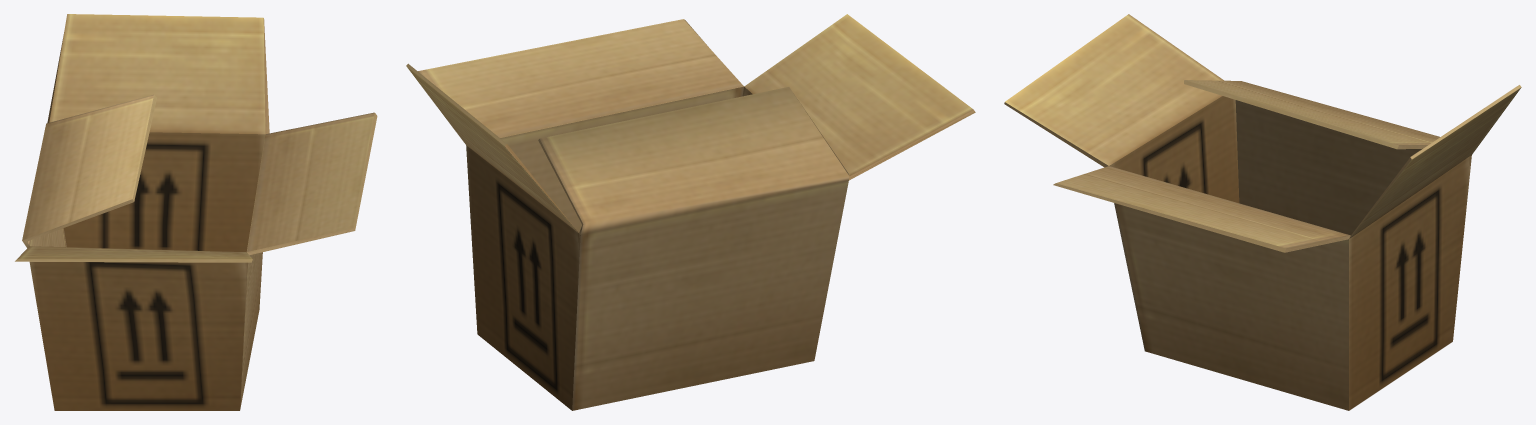
The model's file is TuShuGuan_01_zhixiang_01.FBX.
3 renders of one model, left to right at view 1: azimuth 30°, elevation 25°; view 2: azimuth 150°, elevation 25°; view 3: azimuth 270°, elevation 25°, orthographic. The views are drawn at different scales.
Parts seen in each view (by area): view 1: TuShuGuan_zhixiang_01; view 2: TuShuGuan_zhixiang_01; view 3: TuShuGuan_zhixiang_01.
Part boxes in pixels (bbox=[...]): TuShuGuan_zhixiang_01: bbox=[15, 14, 377, 410]; TuShuGuan_zhixiang_01: bbox=[406, 14, 975, 410]; TuShuGuan_zhixiang_01: bbox=[1004, 14, 1521, 410].
Size of the model in its own units: 410 by 234 by 405.
